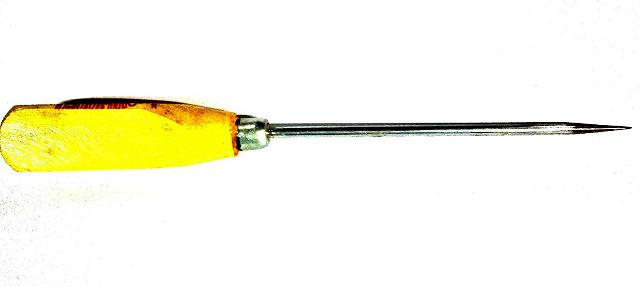ice pick: (1, 98, 632, 174)
